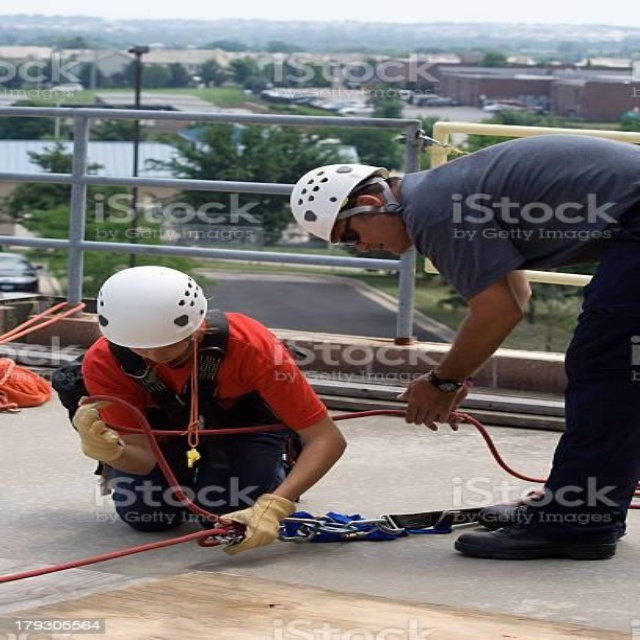Arnes_seguridad: (64, 302, 299, 453)
